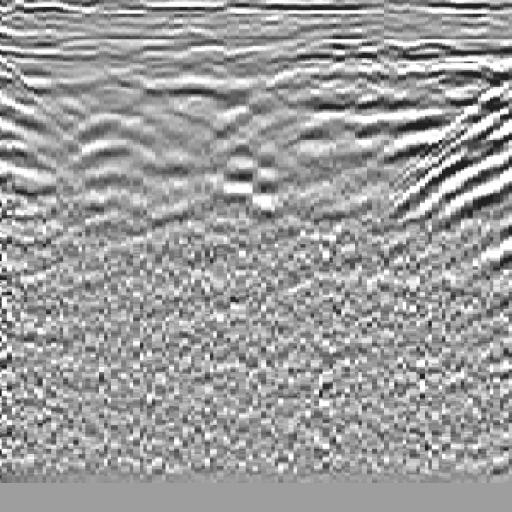metalic: (170, 45, 329, 277)
nonmetalic: (395, 44, 512, 274)
